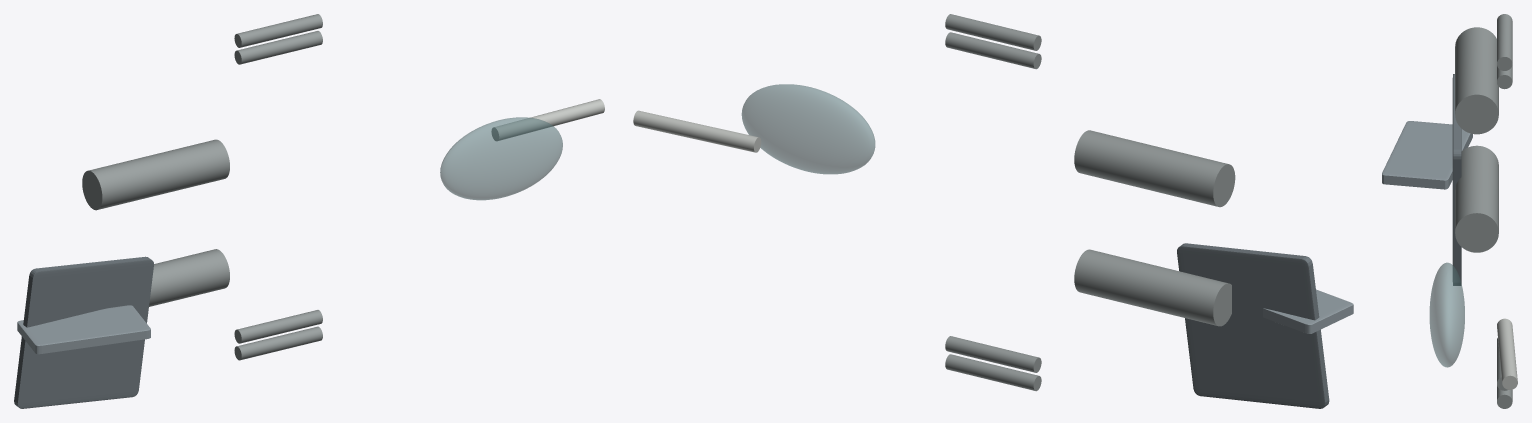
The model's file is s-u23-specter-interceptor-lod2.glb.
3 views of the same model, side by side, from view 1: azimuth 30°, elevation 25°; view 2: azimuth 150°, elevation 25°; view 3: azimuth 270°, elevation 25° (orthographic). The views are drawn at different scales.
Visible parts, largest first — view 1: combat_tailplane_-1, combat_canopy, combat_engine_1, combat_fin_-1, combat_engine_0, combat_gun_barrel_0, combat_-1_tube_1, combat_1_tube_1, combat_-1_tube_2, combat_1_tube_2; view 2: combat_tailplane_-1, combat_canopy, combat_engine_1, combat_engine_0, combat_gun_barrel_0, combat_fin_-1, combat_1_tube_2, combat_1_tube_1, combat_-1_tube_1, combat_-1_tube_2; view 3: combat_engine_1, combat_engine_0, combat_fin_-1, combat_canopy, combat_tailplane_-1, combat_gun_barrel_0, combat_1_tube_2, combat_1_tube_1, combat_-1_tube_1, combat_-1_tube_2.
Boxes of the visible parts, <box> form: combat_tailplane_-1: <box>14,256,153,408</box>; combat_canopy: <box>440,117,562,200</box>; combat_engine_1: <box>82,139,229,210</box>; combat_fin_-1: <box>17,305,150,354</box>; combat_engine_0: <box>149,249,229,306</box>; combat_gun_barrel_0: <box>491,99,604,140</box>; combat_-1_tube_1: <box>234,326,322,360</box>; combat_1_tube_1: <box>234,31,322,64</box>; combat_-1_tube_2: <box>234,310,322,343</box>; combat_1_tube_2: <box>234,14,322,47</box>; combat_tailplane_-1: <box>1177,243,1329,408</box>; combat_canopy: <box>741,84,875,174</box>; combat_engine_1: <box>1074,130,1235,207</box>; combat_engine_0: <box>1074,249,1231,326</box>; combat_gun_barrel_0: <box>633,110,761,152</box>; combat_fin_-1: <box>1263,289,1353,333</box>; combat_1_tube_2: <box>945,14,1041,50</box>; combat_1_tube_1: <box>945,32,1041,69</box>; combat_-1_tube_1: <box>945,354,1041,391</box>; combat_-1_tube_2: <box>945,336,1041,372</box>; combat_engine_1: <box>1455,27,1498,134</box>; combat_engine_0: <box>1455,145,1498,252</box>; combat_fin_-1: <box>1382,121,1472,189</box>; combat_canopy: <box>1429,262,1464,367</box>; combat_tailplane_-1: <box>1452,74,1461,285</box>; combat_gun_barrel_0: <box>1497,318,1517,389</box>; combat_1_tube_2: <box>1497,14,1512,70</box>; combat_1_tube_1: <box>1497,64,1512,89</box>; combat_-1_tube_1: <box>1497,386,1512,408</box>; combat_-1_tube_2: <box>1497,338,1507,390</box>.
Size of what is drawn, in the model's own units: 12.4 by 6.31 by 2.21.
